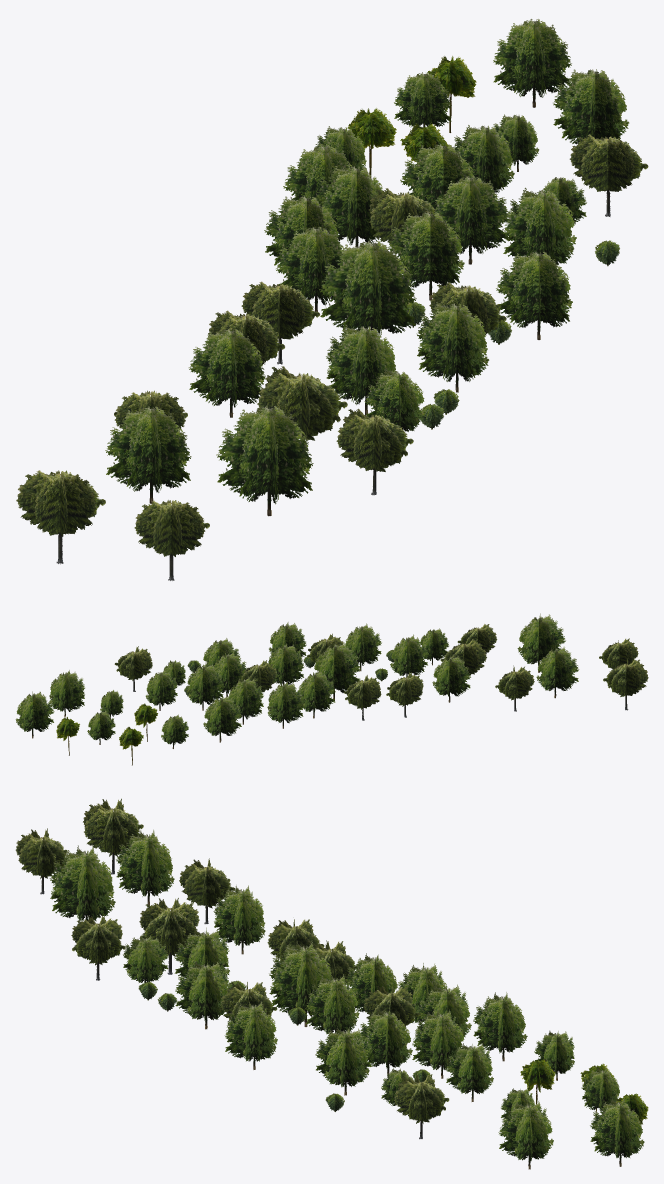
File: ParkTreesChunk4.fbx
The picture shows the model from 3 angles, top to bottom: view 1: azimuth 30°, elevation 25°; view 2: azimuth 150°, elevation 25°; view 3: azimuth 270°, elevation 25°; orthographic projection. The views are drawn at different scales.
Parts seen in each view (by area): view 1: TreesPack.007; view 2: TreesPack.007; view 3: TreesPack.007.
Boxes of the visible parts, bbox=[...] form: TreesPack.007: bbox=[16, 19, 648, 580]; TreesPack.007: bbox=[15, 613, 648, 765]; TreesPack.007: bbox=[15, 798, 648, 1169].
Bounding box in the file's own units: 15702 × 2502 × 13344.
